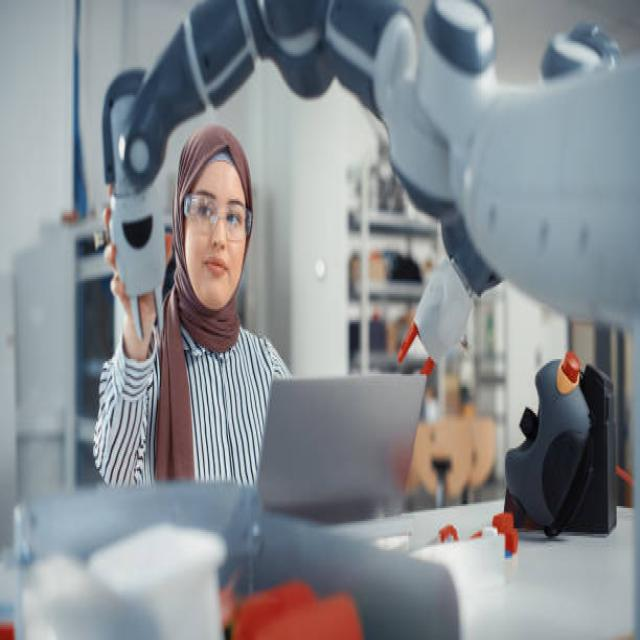Robotic-arm: (91, 0, 640, 348)
